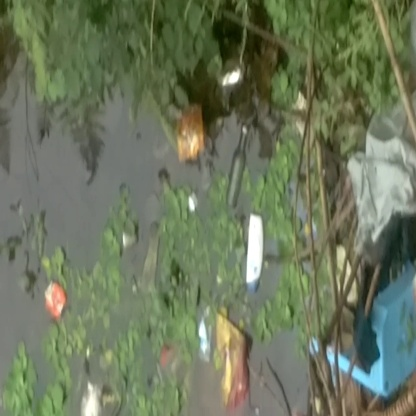plastic-bag: (207, 311, 261, 407)
